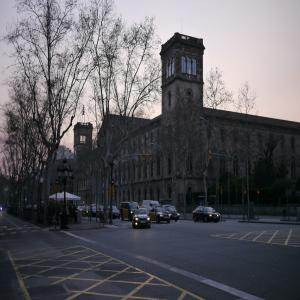Vehicle-registration-plate: (142, 222, 146, 225)
